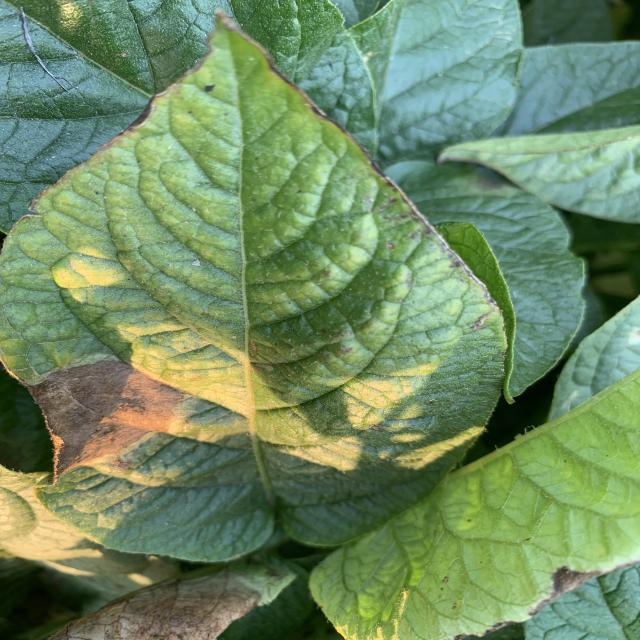lateblight: (28, 361, 250, 478)
